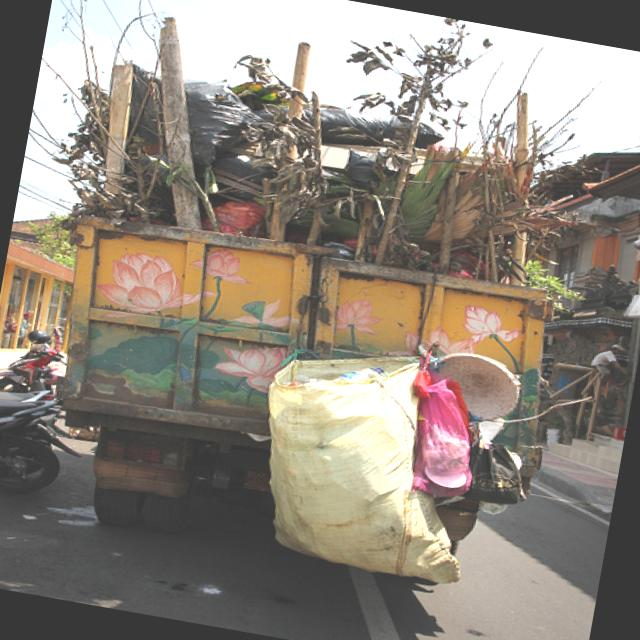Vehicle: (28, 209, 550, 593), (0, 387, 88, 502), (0, 334, 72, 404)
